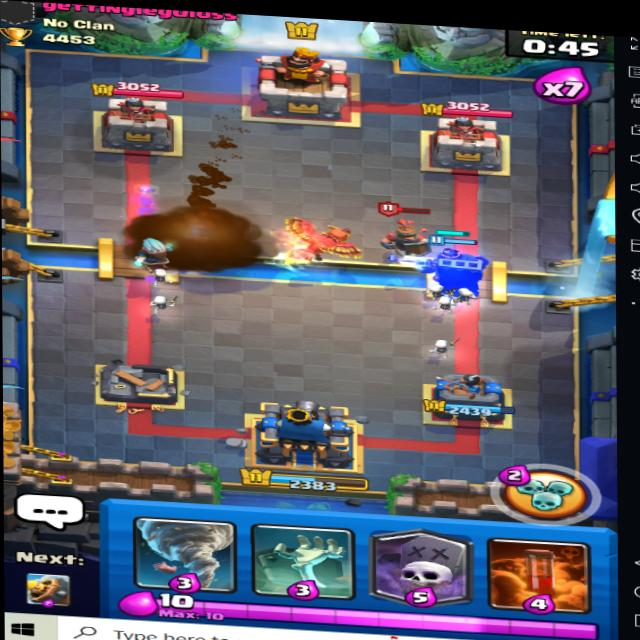Royalrecruits: (371, 197, 444, 260)
